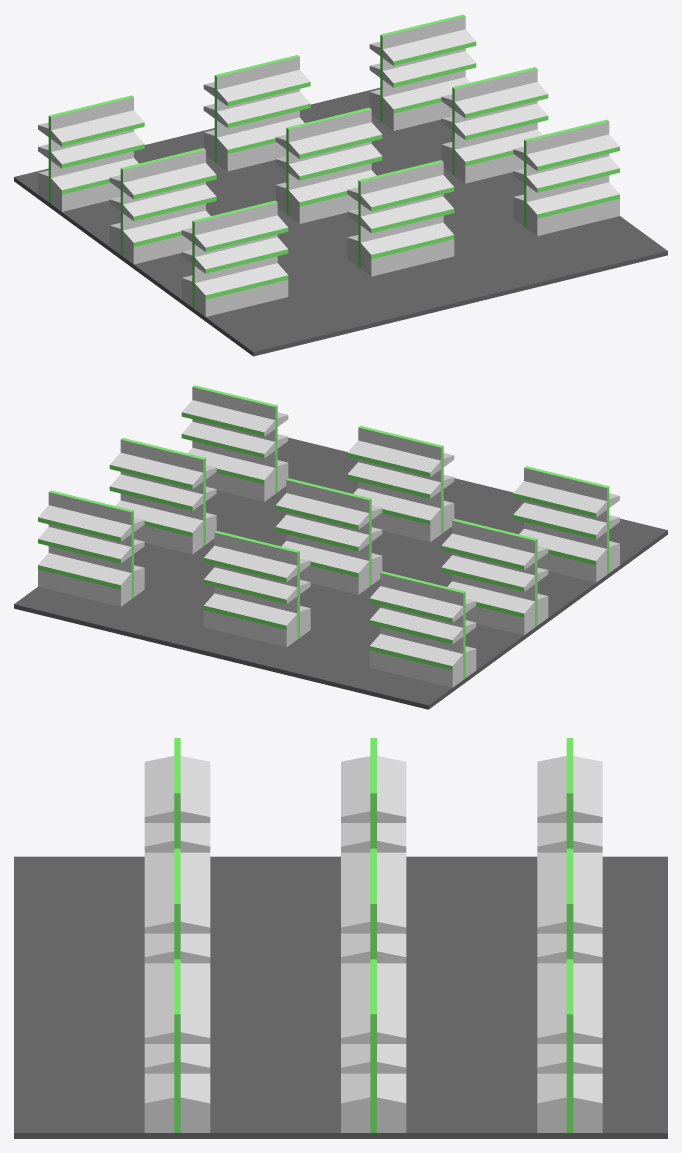
Rendered from generalStore.fbx.
3 renders of one model, top to bottom at view 1: azimuth 30°, elevation 25°; view 2: azimuth 150°, elevation 25°; view 3: azimuth 270°, elevation 25°, orthographic. The views are drawn at different scales.
Visible parts, largest first — view 1: Cube, elevator_floor; view 2: Cube, elevator_floor; view 3: elevator_floor, Cube.
Boxes of the visible parts, left/top/right/bottom form: Cube: left=38, top=14, right=619, bottom=316; elevator_floor: left=14, top=87, right=667, bottom=356; Cube: left=38, top=385, right=619, bottom=687; elevator_floor: left=14, top=437, right=667, bottom=709; elevator_floor: left=14, top=856, right=667, bottom=1138; Cube: left=144, top=738, right=602, bottom=1132.
Size of the model in its own units: 1000 by 210 by 1000.
